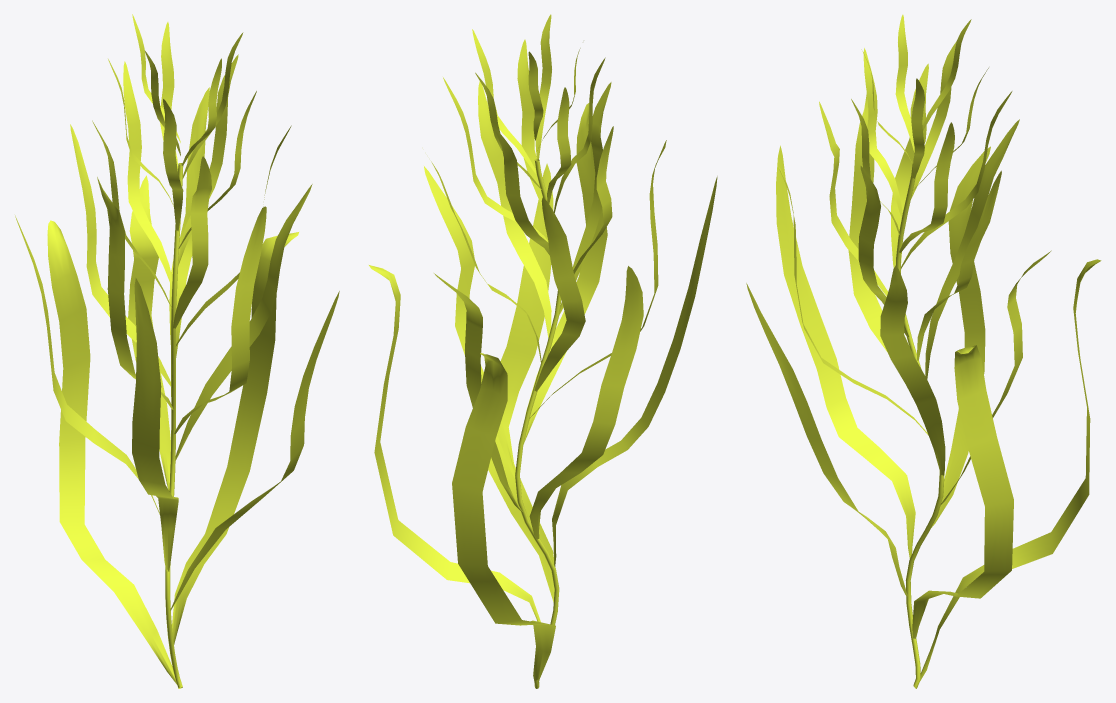
File: ThinKelp.fbx
3 views of the same model, side by side, from view 1: azimuth 30°, elevation 25°; view 2: azimuth 150°, elevation 25°; view 3: azimuth 270°, elevation 25° (orthographic).
Parts seen in each view (by area): view 1: BezierCurve; view 2: BezierCurve; view 3: BezierCurve.
Boxes of the visible parts, x1,y1,x2,y2 form: BezierCurve: (15,14,339,688); BezierCurve: (369,14,717,688); BezierCurve: (746,14,1101,688).
Bounding box in the file's own units: 12.51 × 28.96 × 14.14.
